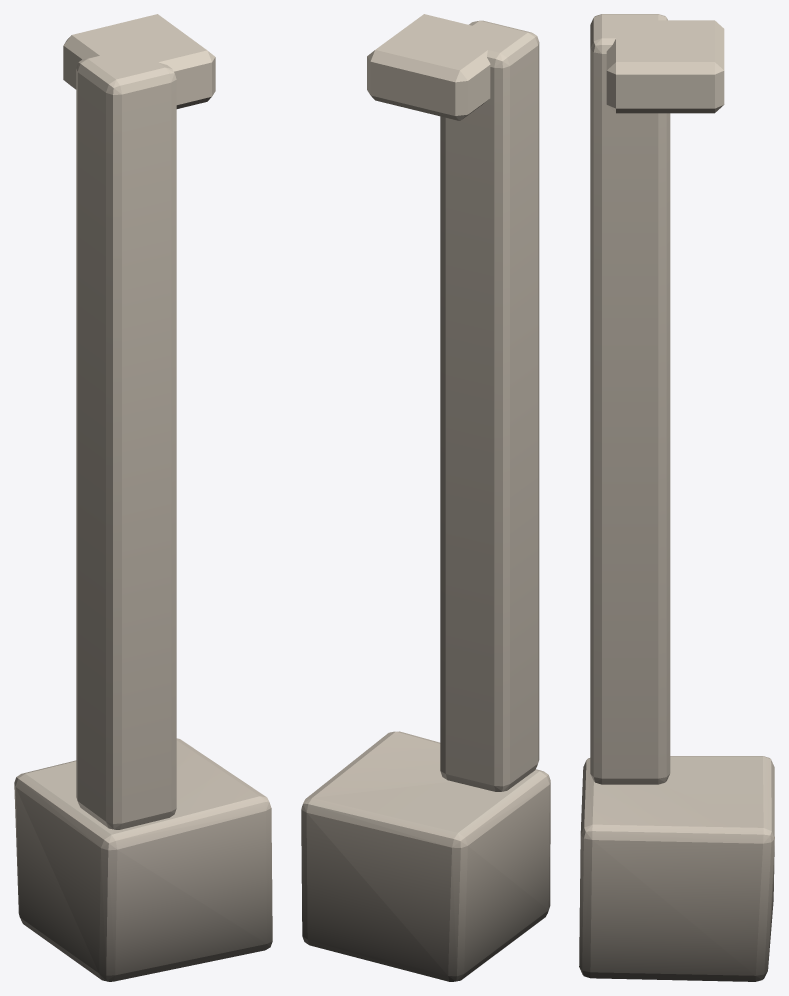
The model's file is SM_VK_Corner_Barn.fbx.
3 renders of one model, left to right at view 1: azimuth 30°, elevation 25°; view 2: azimuth 150°, elevation 25°; view 3: azimuth 270°, elevation 25°, orthographic.
Visible parts, largest first — view 1: SM_VK_Corner_Barn.001; view 2: SM_VK_Corner_Barn.001; view 3: SM_VK_Corner_Barn.001.
Part boxes in pixels (bbox=[...]): SM_VK_Corner_Barn.001: bbox=[14, 14, 272, 981]; SM_VK_Corner_Barn.001: bbox=[301, 14, 550, 981]; SM_VK_Corner_Barn.001: bbox=[579, 14, 774, 981].
Bounding box in the file's own units: 0.8313 × 4.22 × 0.832.
